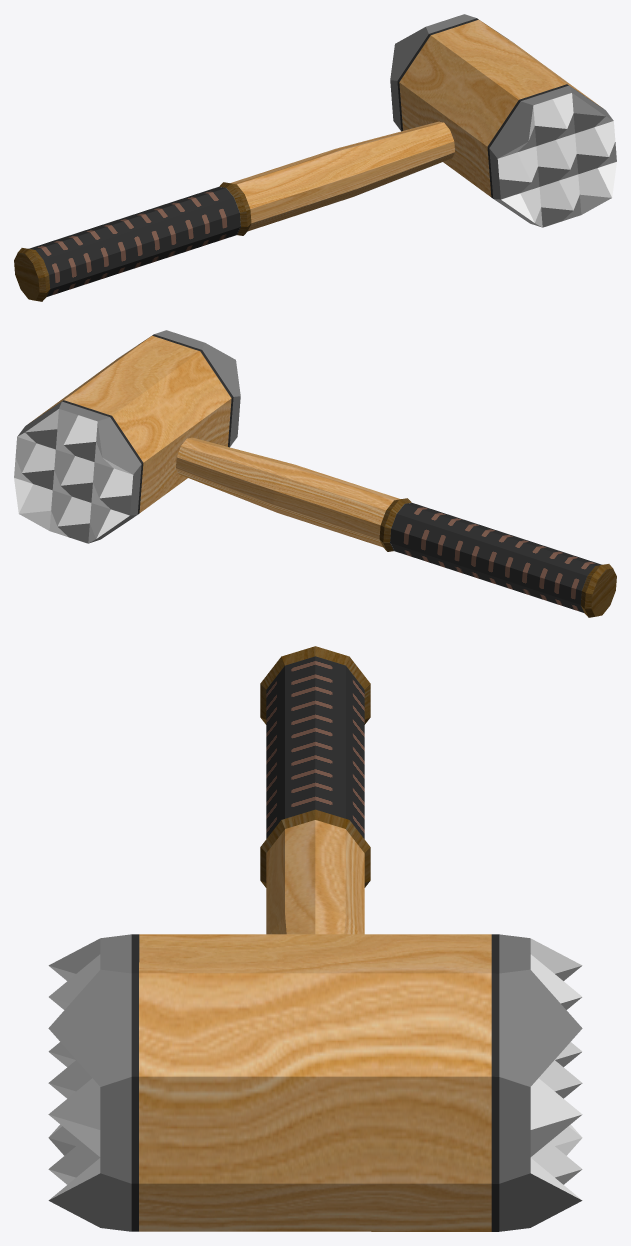
The model's file is WorldItem_MeatTenderiser.fbx.
The picture shows the model from 3 angles, top to bottom: view 1: azimuth 30°, elevation 25°; view 2: azimuth 150°, elevation 25°; view 3: azimuth 270°, elevation 25°; orthographic projection. The views are drawn at different scales.
Parts seen in each view (by area): view 1: ZomboidMeatTenderiser; view 2: ZomboidMeatTenderiser; view 3: ZomboidMeatTenderiser.
Part boxes in pixels (left/top/right/bottom): ZomboidMeatTenderiser: left=14, top=14, right=616, bottom=301; ZomboidMeatTenderiser: left=14, top=330, right=616, bottom=617; ZomboidMeatTenderiser: left=48, top=646, right=582, bottom=1231.
Bounding box in the file's own units: 0.3264 × 0.0749 × 0.1402.
